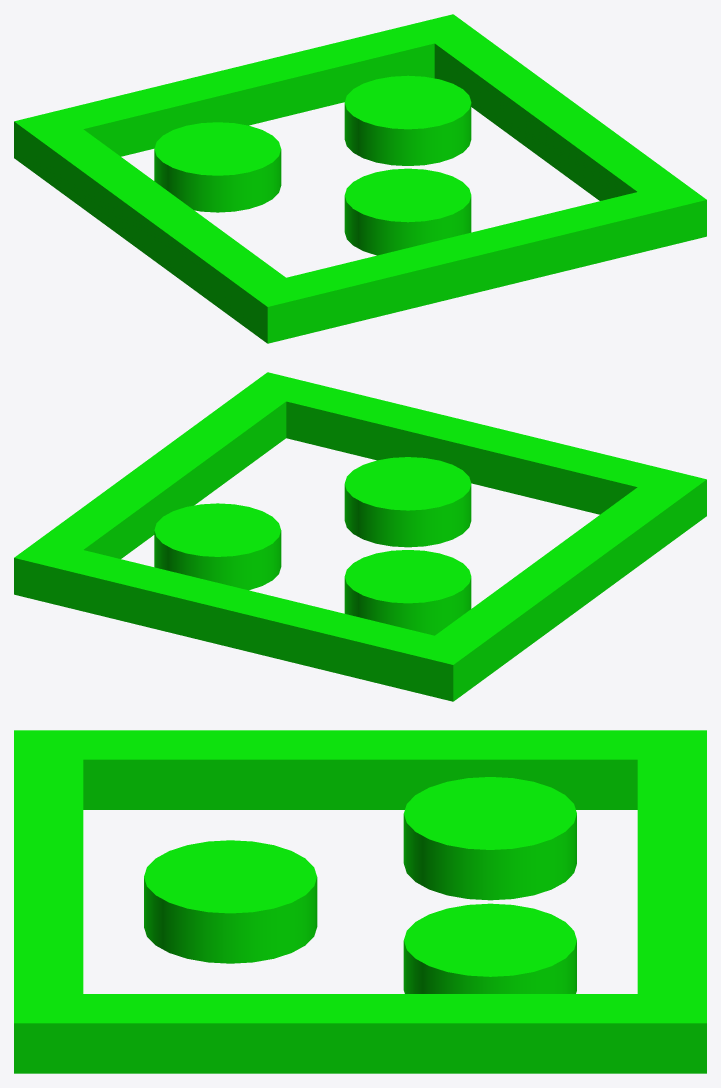
Rendered from pu_multiBall.fbx.
3 renders of one model, top to bottom at view 1: azimuth 30°, elevation 25°; view 2: azimuth 150°, elevation 25°; view 3: azimuth 270°, elevation 25°, orthographic. The views are drawn at different scales.
Parts seen in each view (by area): view 1: pu_multiBall; view 2: pu_multiBall; view 3: pu_multiBall.
Part boxes in pixels (left/top/right/bottom): pu_multiBall: left=14, top=14, right=706, bottom=343; pu_multiBall: left=14, top=372, right=706, bottom=701; pu_multiBall: left=14, top=730, right=706, bottom=1073.
Bounding box in the file's own units: 1 × 0.08 × 1.
